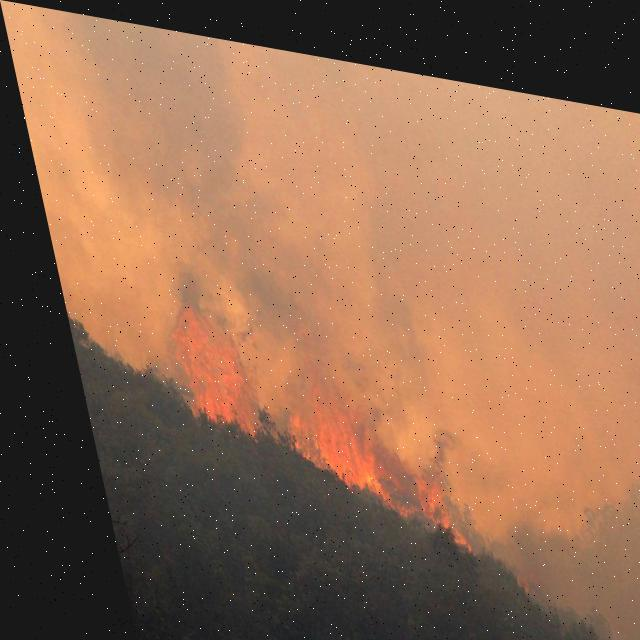Fire: (151, 294, 457, 541)
